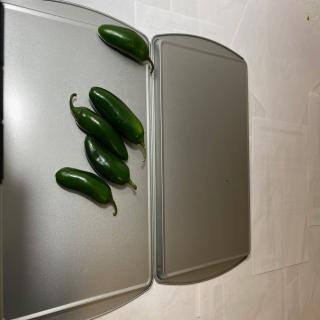Chilli: (88, 86, 146, 162), (69, 92, 128, 162), (55, 166, 117, 216), (97, 24, 154, 75)
Tomato: (84, 134, 137, 190)
